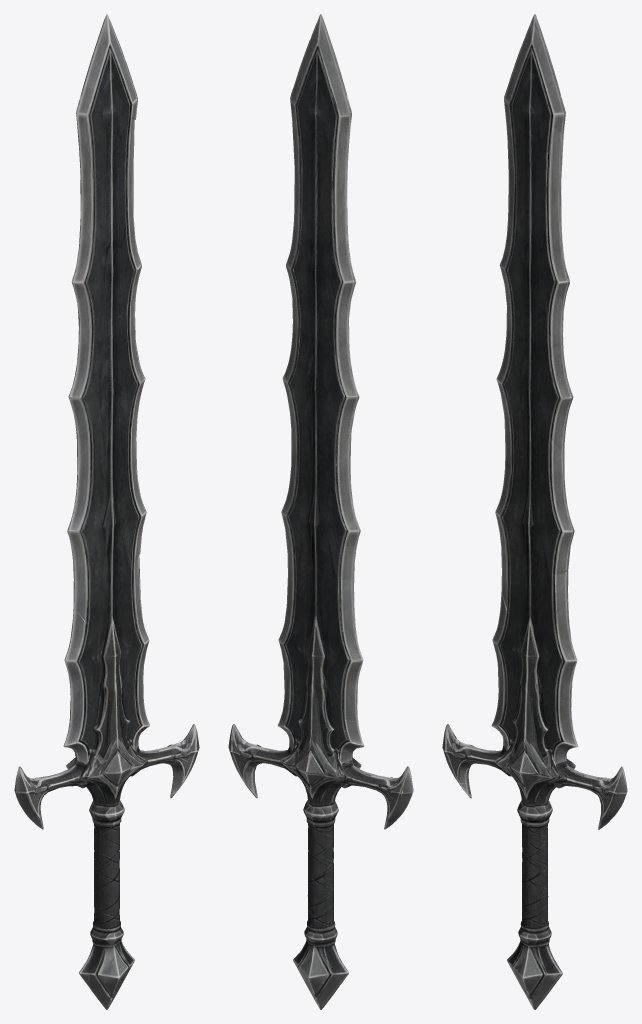
File: GRS011_Remesh_10k.fbx
3 renders of one model, left to right at view 1: azimuth 30°, elevation 25°; view 2: azimuth 150°, elevation 25°; view 3: azimuth 330°, elevation 25°, orthographic.
Visible parts, largest first — view 1: output_unwrapped; view 2: output_unwrapped; view 3: output_unwrapped.
Boxes of the visible parts, x1,y1,x2,y2 form: output_unwrapped: (14,14,199,1009); output_unwrapped: (228,14,413,1009); output_unwrapped: (442,14,627,1009).
Size of the model in its own units: 36.86 by 190 by 10.21.
Materials: 1 (1 with a texture image).
